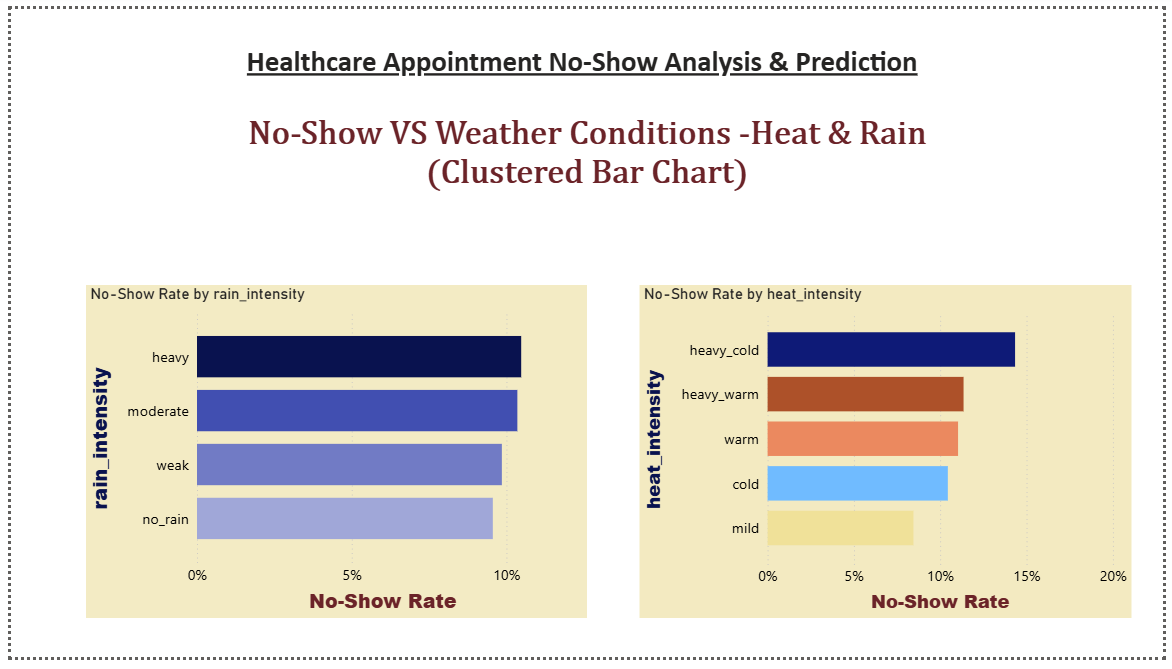

Layout of this report page (visuals, bound fields, positions):
{"tool":"powerbi","page":{"name":"no_show VS weather conditions","canvas":[1280,720],"ordinal":5},"visuals":[{"type":"clusteredBarChart","fields":{"Category":["healthcare_dataset_cleaned.rain_intensity"],"Y":["healthcare_dataset_cleaned.No-Show Rate"]},"box":[83.3,306.7,556.7,370],"z":0},{"type":"clusteredBarChart","fields":{"Y":["healthcare_dataset_cleaned.No-Show Rate"],"Category":["healthcare_dataset_cleaned.heat_intensity"]},"box":[698.3,306.7,546.7,370],"z":1000},{"type":"textbox","box":[253.3,111.7,773.3,116.7],"z":2000},{"type":"textbox","box":[256.7,33.3,765,56.7],"z":3000}]}

Visuals, with their boxes in screenshot pixels (x1, y1, x2, y2), scaled from the page's 1280x720 canvas onto the 1172x669 screenshot:
clusteredBarChart - healthcare_dataset_cleaned.rain_intensity x healthcare_dataset_cleaned.No-Show Rate: (76, 285, 586, 629)
clusteredBarChart - healthcare_dataset_cleaned.No-Show Rate x healthcare_dataset_cleaned.heat_intensity: (639, 285, 1140, 629)
textbox: (232, 104, 940, 212)
textbox: (235, 31, 935, 84)
